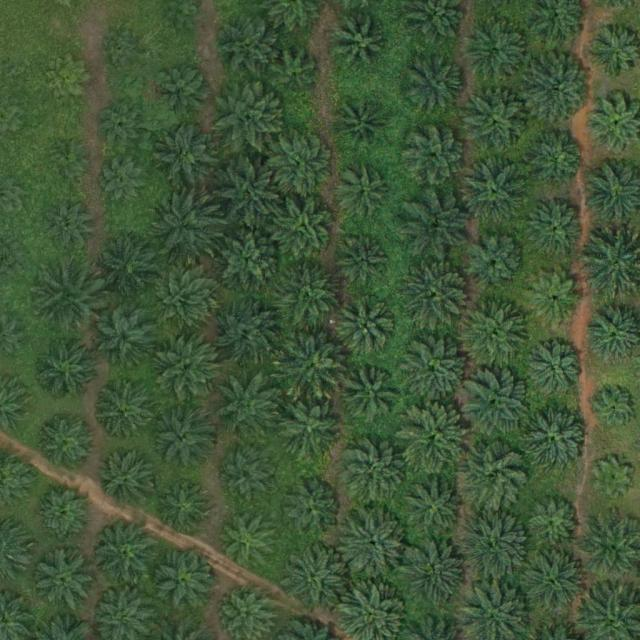Healthy: (94, 235, 165, 306), (399, 337, 470, 408), (461, 88, 532, 159), (457, 441, 528, 512), (399, 477, 470, 548), (35, 261, 105, 332), (92, 303, 162, 374), (149, 122, 219, 193), (149, 194, 219, 265), (215, 161, 285, 232), (213, 297, 283, 368), (278, 267, 348, 338), (402, 187, 472, 258), (402, 263, 473, 333), (461, 154, 531, 225), (524, 54, 594, 125), (522, 406, 592, 477), (519, 550, 589, 621), (460, 369, 530, 440), (398, 402, 468, 473), (400, 541, 470, 612), (341, 436, 411, 507), (341, 509, 411, 580), (276, 332, 346, 403), (280, 543, 350, 614), (213, 375, 283, 446), (152, 335, 222, 406), (215, 84, 285, 154), (459, 299, 529, 369), (460, 512, 530, 582), (149, 547, 219, 617), (91, 520, 161, 590), (219, 232, 282, 295), (335, 296, 398, 359), (464, 229, 527, 292), (339, 364, 402, 427), (35, 409, 98, 472), (92, 96, 154, 159), (154, 270, 217, 332), (220, 19, 282, 82), (275, 135, 337, 198), (274, 196, 336, 259), (331, 97, 393, 160), (404, 123, 466, 186), (466, 19, 528, 82), (525, 199, 587, 262), (279, 400, 341, 463), (279, 482, 342, 544), (94, 380, 156, 443), (35, 337, 97, 400), (33, 546, 95, 609), (409, 52, 471, 114), (525, 128, 587, 190), (216, 509, 278, 571), (152, 410, 214, 472), (155, 64, 210, 119), (339, 164, 394, 219), (337, 235, 392, 290), (528, 344, 583, 399), (526, 494, 581, 549), (217, 451, 272, 506), (153, 481, 208, 536), (99, 456, 154, 511), (38, 486, 93, 541), (528, 272, 582, 327)
Small: (45, 202, 92, 250), (340, 22, 387, 70), (274, 51, 321, 98), (52, 144, 92, 184), (594, 459, 634, 499), (102, 161, 142, 200), (105, 35, 144, 75), (597, 390, 637, 429)
Yellow: (48, 62, 87, 102)
